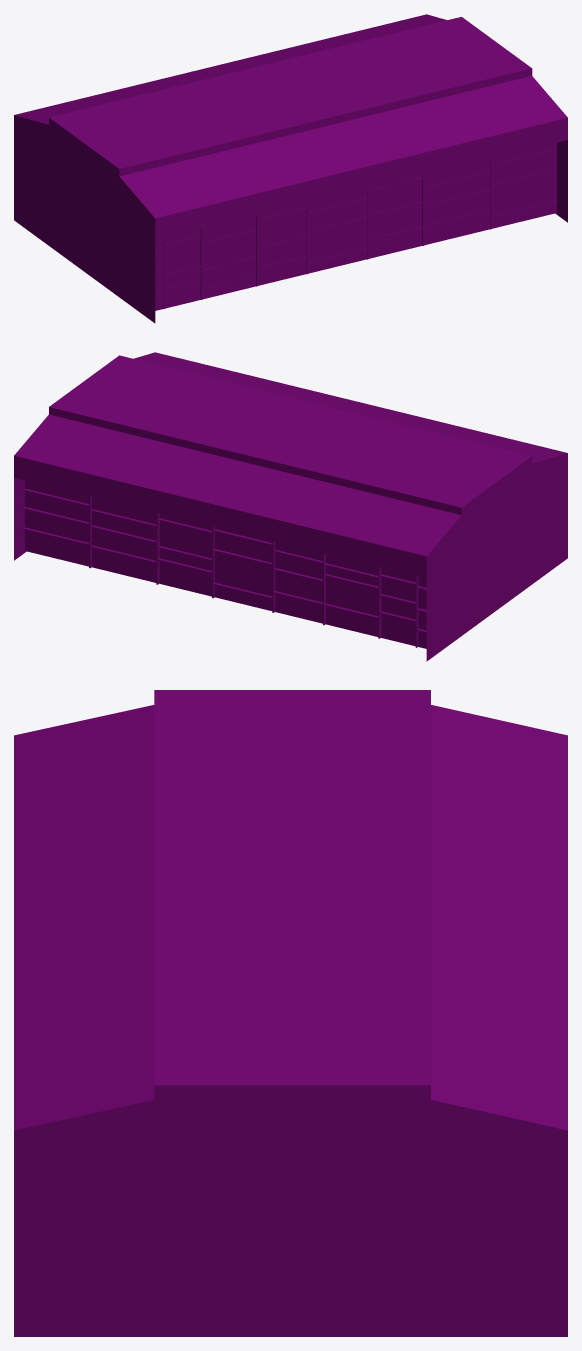
The model's file is new_room_001.fbx.
The picture shows the model from 3 angles, top to bottom: view 1: azimuth 30°, elevation 25°; view 2: azimuth 150°, elevation 25°; view 3: azimuth 270°, elevation 25°; orthographic projection. The views are drawn at different scales.
Visible parts, largest first — view 1: pPlane2; view 2: pPlane2; view 3: pPlane2.
Boxes of the visible parts, x1=… form: pPlane2: x1=14, y1=14, x2=567, y2=323; pPlane2: x1=14, y1=352, x2=567, y2=661; pPlane2: x1=14, y1=690, x2=567, y2=1336.
Bounding box in the file's own units: 50.05 × 14.88 × 29.66.
